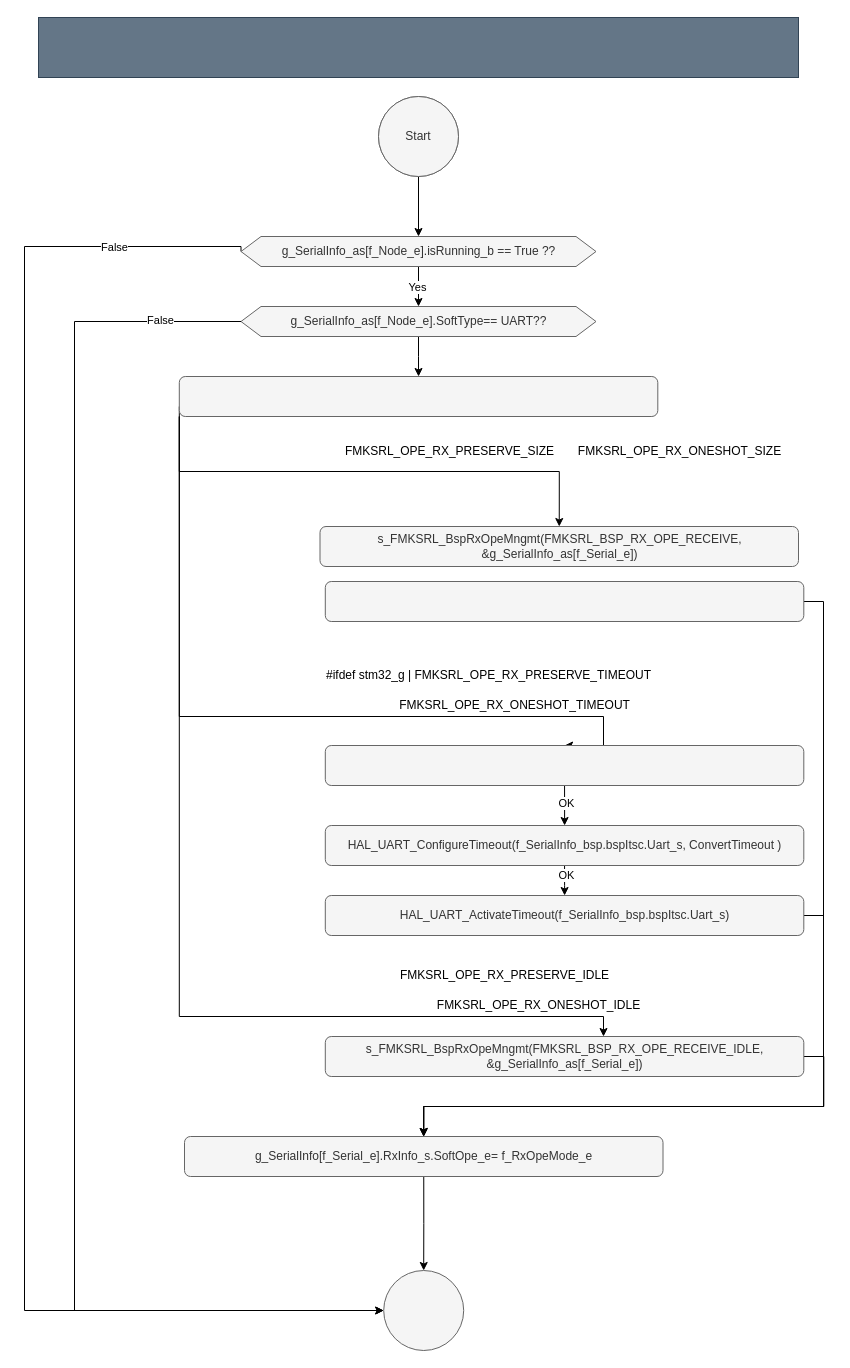
Some shapes in this 850 by 1368 pixel diagram are drawn without their labels. The box of each missing label's shape, as (x1, y1, x2, y2) in pixels:
ConvertTimeout = formule(f_InfoMode_u16): (324, 744, 804, 786)
End: (383, 1270, 464, 1350)
FMKSRL_UartCfgMsgReception( f_Serial_e, t_eFMKSRL_UartRxOpeMode, f_InfoOpe_u16 ): (38, 16, 798, 78)
g_RxExpectedSize_ua16[f_SerialLine] = f_InfoOpe: (324, 580, 804, 622)
Switch f_RxOpeMode: (178, 376, 658, 416)
